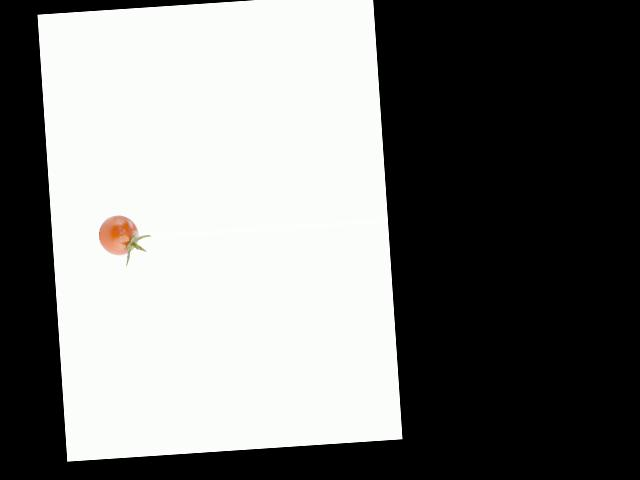tomato: (97, 213, 139, 255)
